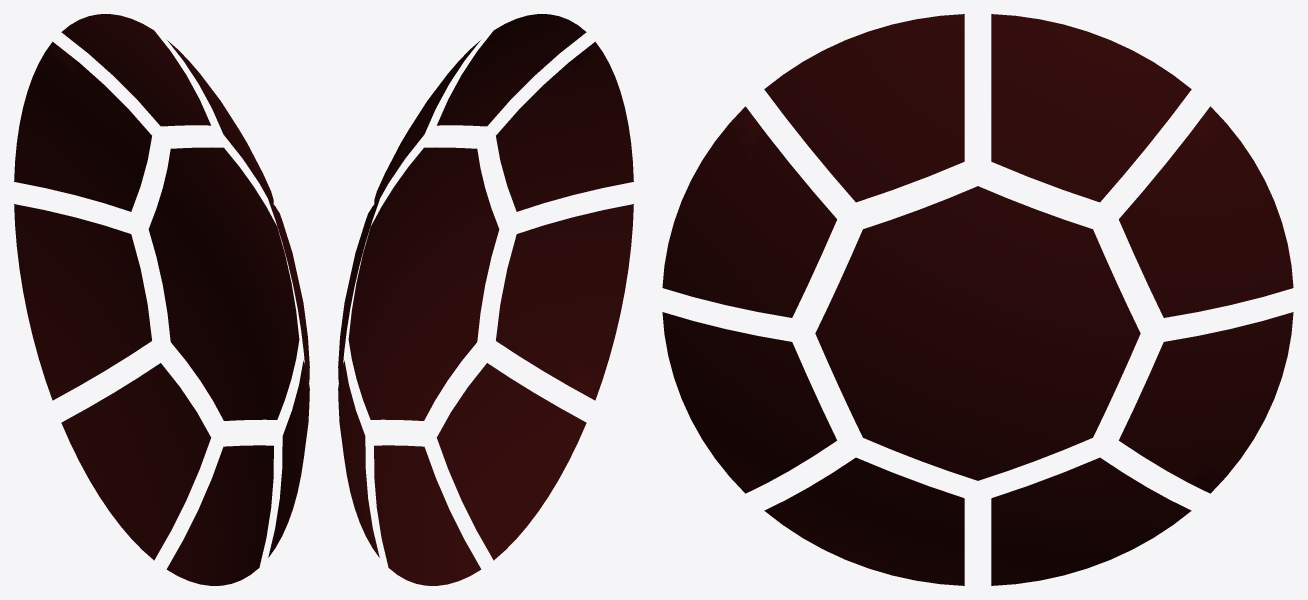
File: ventana.fbx
The picture shows the model from 3 angles, left to right: view 1: azimuth 30°, elevation 25°; view 2: azimuth 150°, elevation 25°; view 3: azimuth 270°, elevation 25°; orthographic projection. The views are drawn at different scales.
Visible parts, largest first — view 1: ventana; view 2: ventana; view 3: ventana.
Boxes of the visible parts, left/top/right/bottom form: ventana: left=14, top=14, right=309, bottom=585; ventana: left=338, top=14, right=633, bottom=585; ventana: left=662, top=14, right=1293, bottom=585.
Bounding box in the file's own units: 0.6935 × 4.17 × 4.17.
